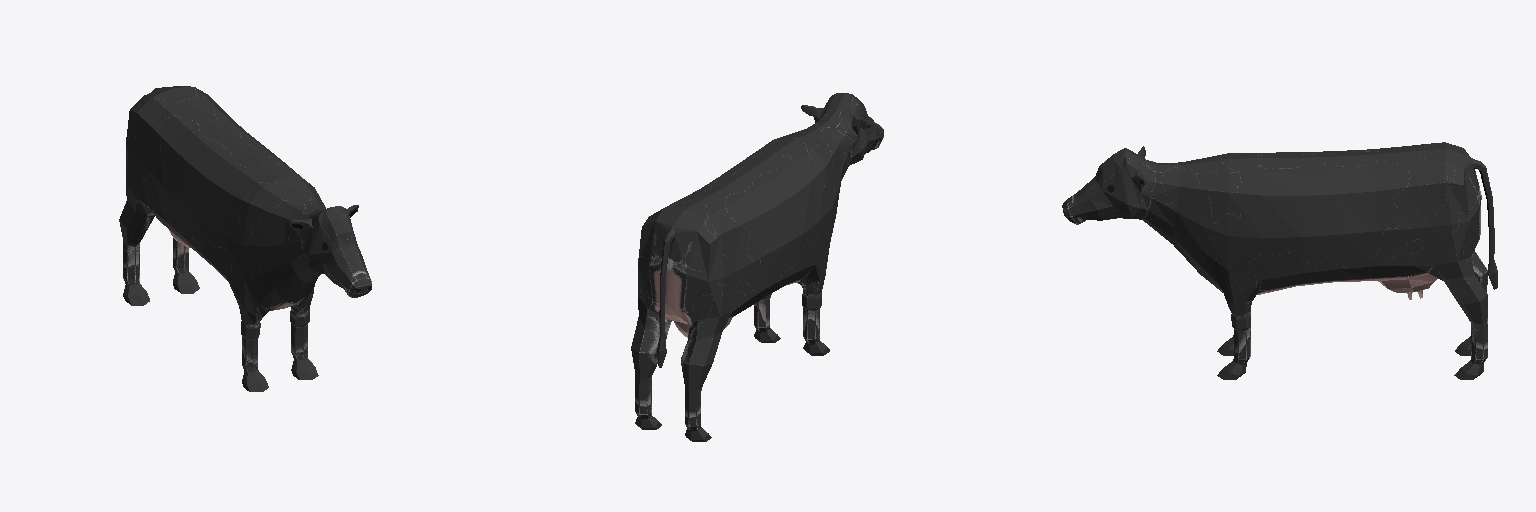
3 renders of one model, left to right at view 1: azimuth 30°, elevation 25°; view 2: azimuth 150°, elevation 25°; view 3: azimuth 270°, elevation 25°, orthographic.
Visible parts, largest first — view 1: Cow_mesh; view 2: Cow_mesh; view 3: Cow_mesh.
Part boxes in pixels (x1,y1,x2,y2): Cow_mesh: (119, 86, 371, 391); Cow_mesh: (631, 93, 883, 441); Cow_mesh: (1062, 142, 1497, 379).
Size of the model in its own units: 3.36 by 7.42 by 13.65.
Materials: 1 (1 with a texture image).